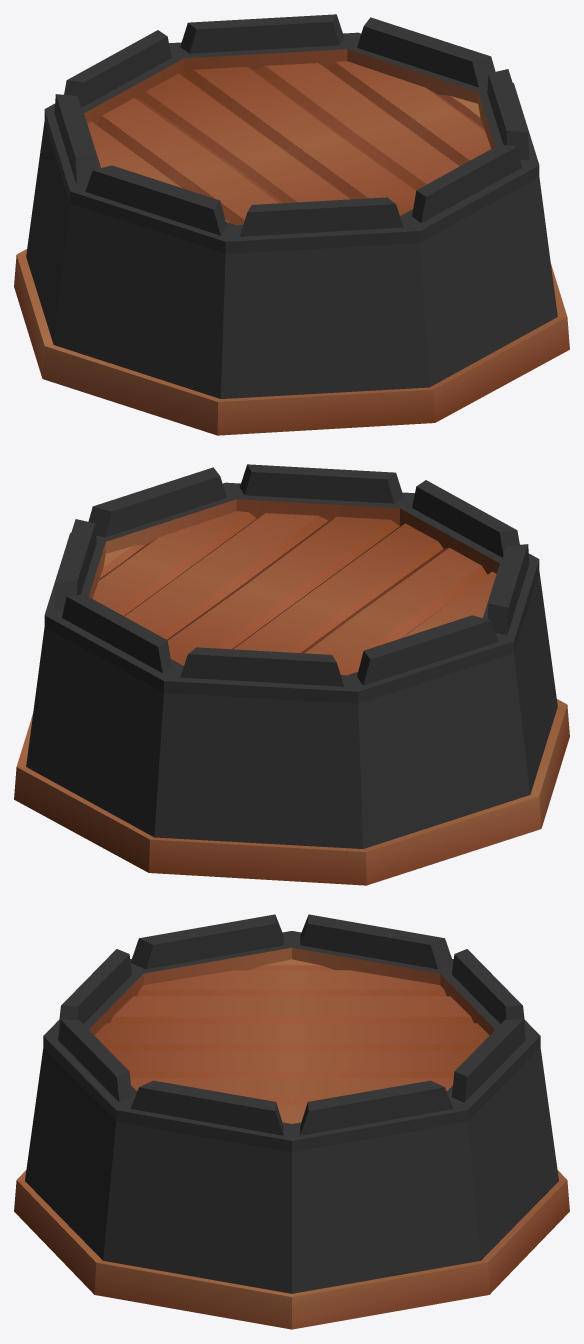
File: Tower.fbx
3 renders of one model, top to bottom at view 1: azimuth 30°, elevation 25°; view 2: azimuth 150°, elevation 25°; view 3: azimuth 270°, elevation 25°, orthographic. The views are drawn at different scales.
Visible parts, largest first — view 1: Tower; view 2: Tower; view 3: Tower.
Part boxes in pixels (box(x1,y1,x2,y2)): Tower: box(14, 14, 569, 435); Tower: box(14, 464, 569, 885); Tower: box(14, 914, 569, 1329).
Bounding box in the file's own units: 0.6221 × 0.6185 × 0.2451.
